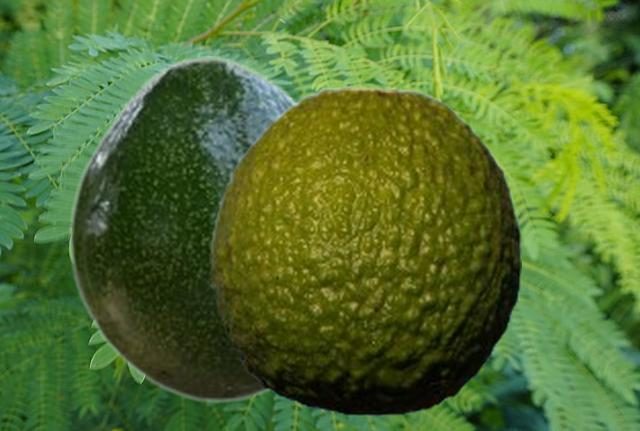avocado: (209, 86, 520, 415), (68, 56, 297, 403)
